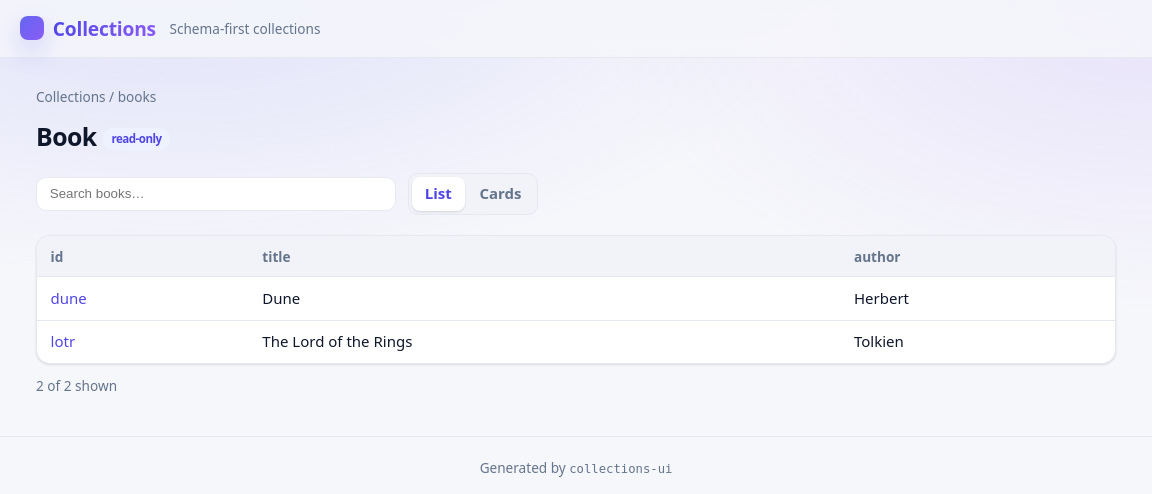
Test: read views › lists items and filters them with the client-side search box
Expected: the text "Dune" is shown, [249, 277, 840, 320]
Expected: the text "The Lord of the Rings" is shown, [249, 320, 840, 363]
Step 1. Type "lord" into the search field labelled "Search" → (216, 194), box [36, 176, 396, 211]
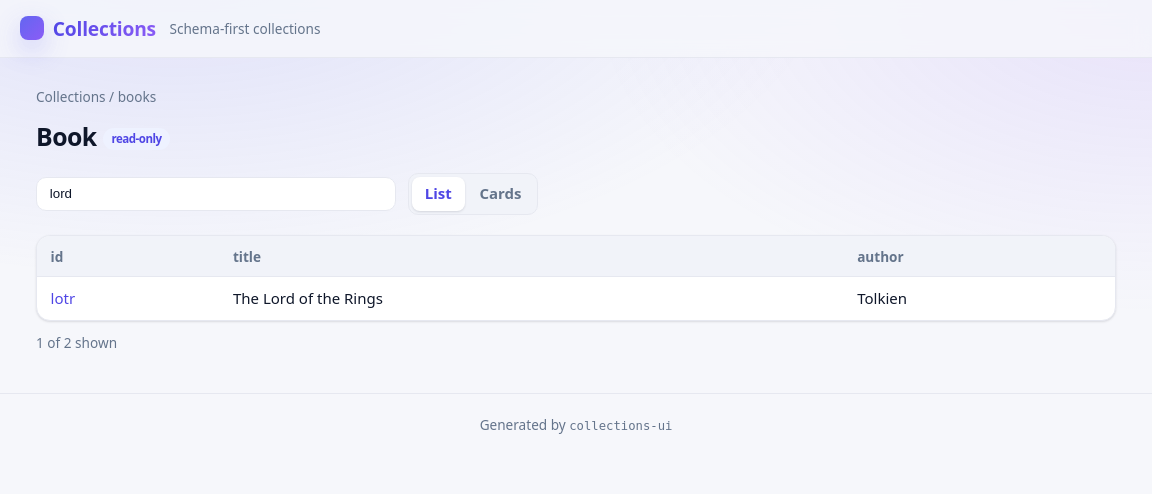
Expected: the text "The Lord of the Rings" is shown, [219, 277, 844, 320]
Now the link "dune" is gone
